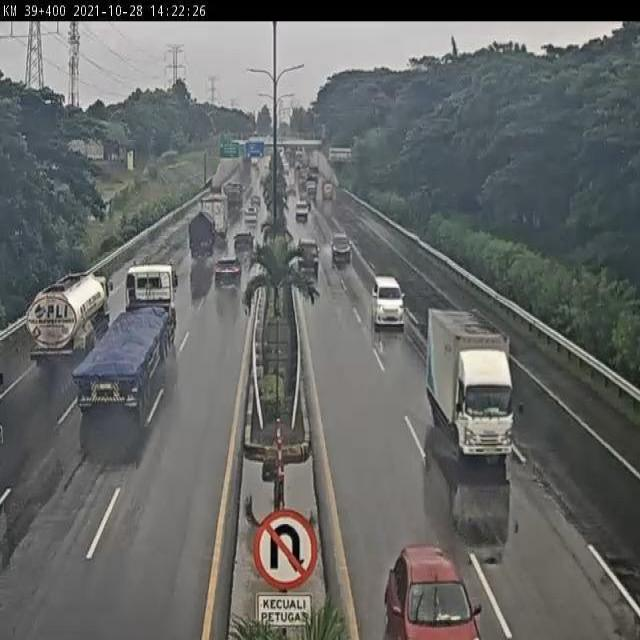car: (371, 276, 407, 335), (212, 254, 243, 294), (297, 235, 320, 273), (328, 230, 350, 262)
truck-l-: (193, 199, 225, 248)
truck-m-: (27, 276, 109, 368), (185, 211, 217, 264)
truck-s-: (427, 305, 515, 460)
truck-xl-: (72, 260, 178, 416)
